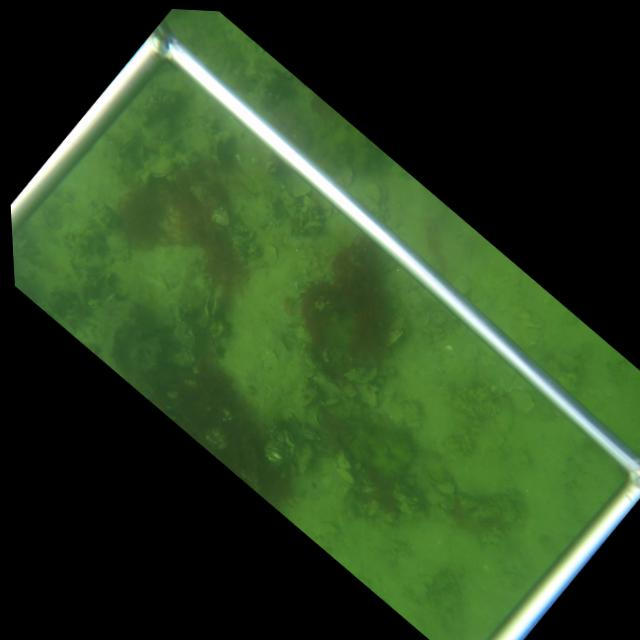Oyster-Closed: (296, 428, 315, 439)
Oyster-Indeterminate: (383, 316, 408, 351), (293, 441, 314, 473), (333, 466, 355, 483)
Oyster-Open: (363, 180, 387, 204), (202, 295, 222, 321), (358, 471, 374, 486)
